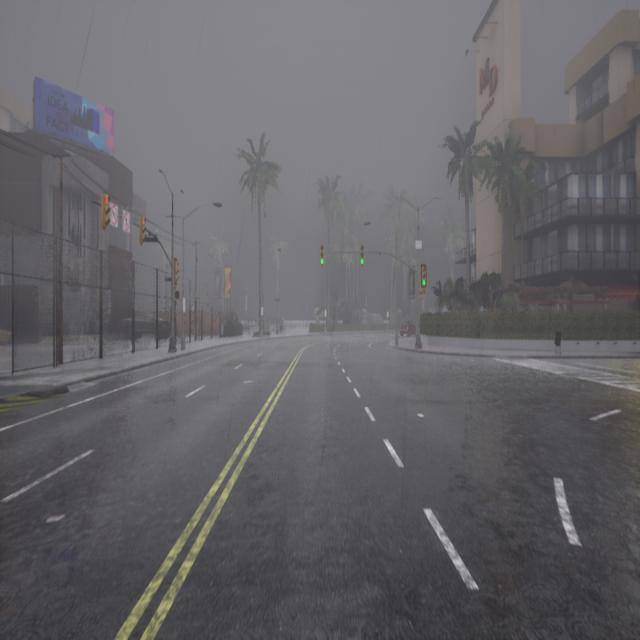6: (104, 190, 110, 208), (138, 215, 146, 225), (174, 257, 178, 270)
9: (105, 191, 112, 227), (419, 264, 428, 292), (139, 215, 146, 243), (173, 255, 179, 287), (358, 242, 365, 268), (318, 241, 324, 267)
bien_hieu_lenh: (419, 280, 427, 291), (316, 257, 324, 266), (359, 255, 365, 267)
